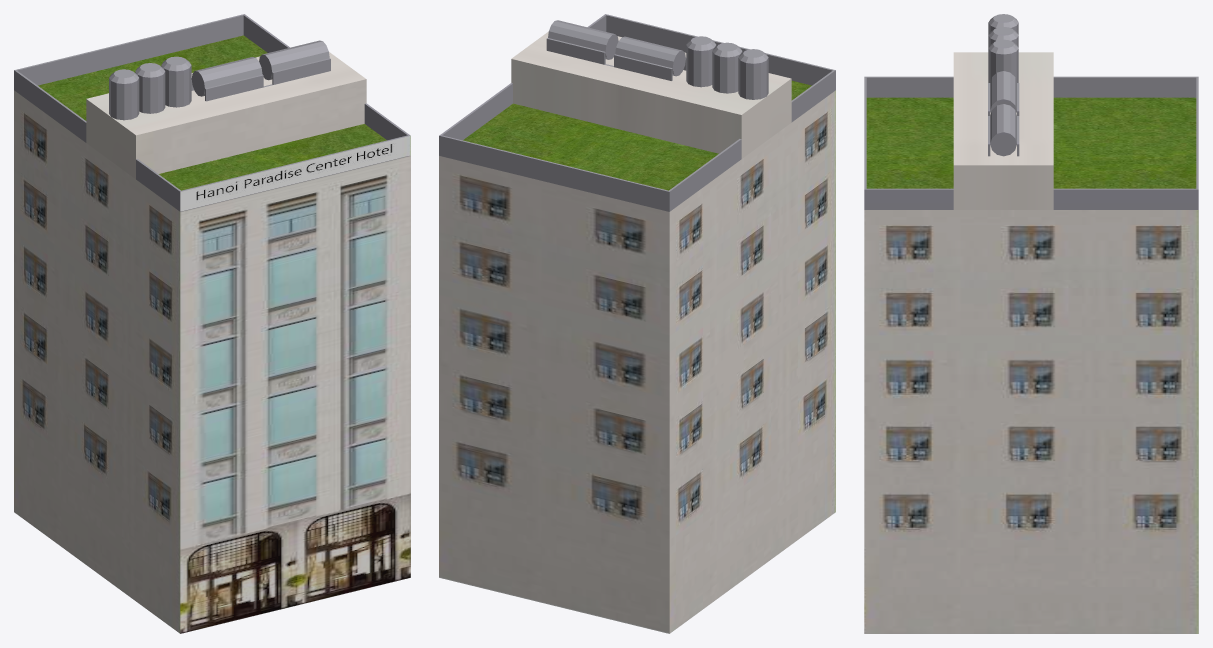
3 views of the same model, side by side, from view 1: azimuth 30°, elevation 25°; view 2: azimuth 150°, elevation 25°; view 3: azimuth 270°, elevation 25° (orthographic).
Visible parts, largest first — view 1: HN098__Hanoi_Paradise_center_Hotel___spa; view 2: HN098__Hanoi_Paradise_center_Hotel___spa; view 3: HN098__Hanoi_Paradise_center_Hotel___spa.
Boxes of the visible parts, <box> form: HN098__Hanoi_Paradise_center_Hotel___spa: <box>14,14,410,633</box>; HN098__Hanoi_Paradise_center_Hotel___spa: <box>439,14,835,633</box>; HN098__Hanoi_Paradise_center_Hotel___spa: <box>864,14,1198,633</box>.
Size of the model in its own units: 12 by 25.2 by 15.
1 material, 1 textured.
